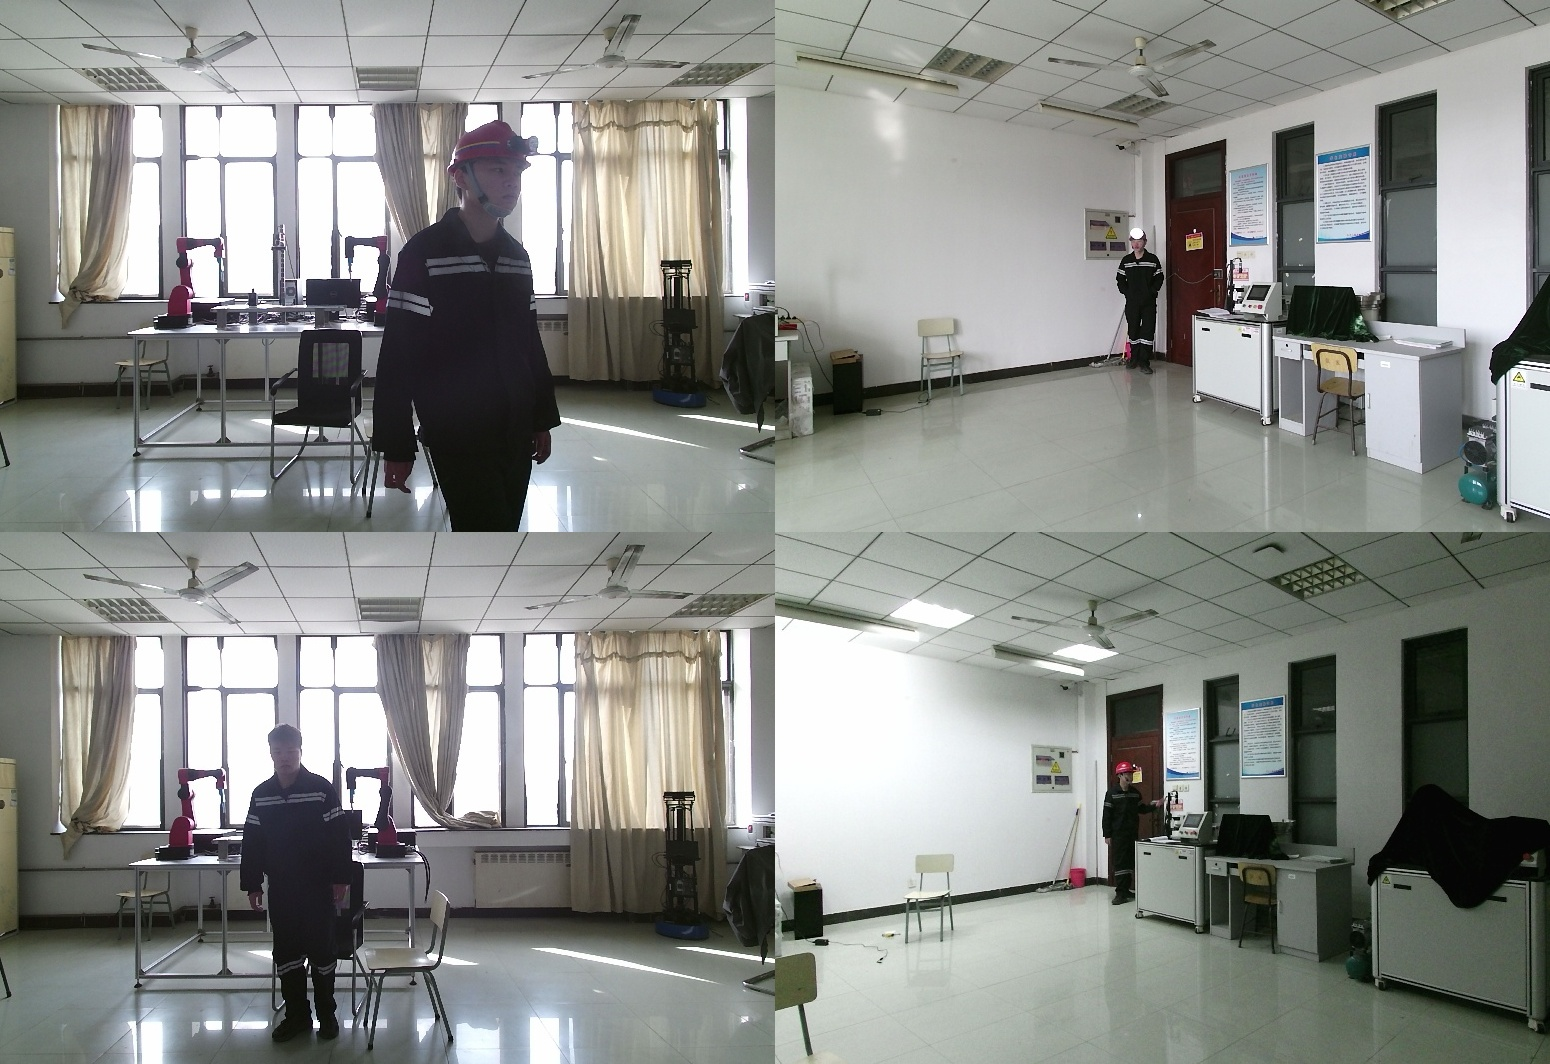person: (383, 121, 571, 532), (242, 723, 361, 1039), (1101, 765, 1154, 906), (1117, 233, 1162, 371)
